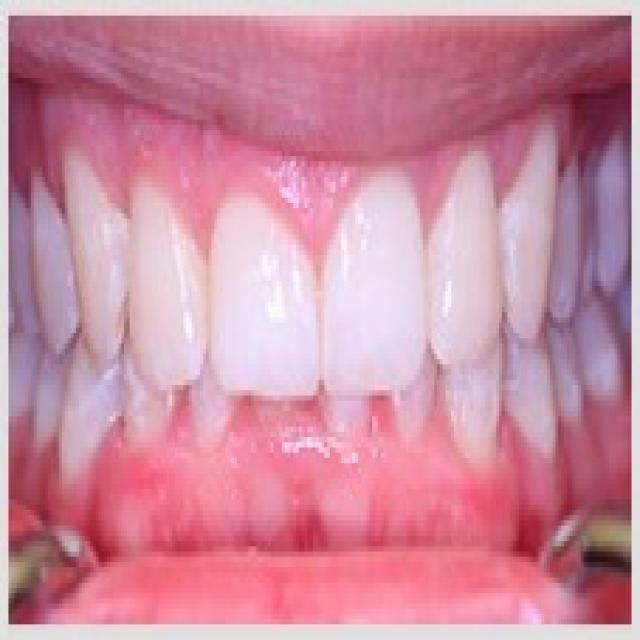tooth: (189, 162, 324, 396), (324, 151, 434, 390), (417, 135, 502, 375), (127, 187, 209, 385), (53, 146, 127, 364), (505, 140, 561, 333), (510, 343, 572, 484), (20, 198, 76, 348), (442, 354, 508, 463), (54, 349, 112, 463), (324, 390, 372, 463), (121, 364, 158, 437), (195, 374, 217, 452)
